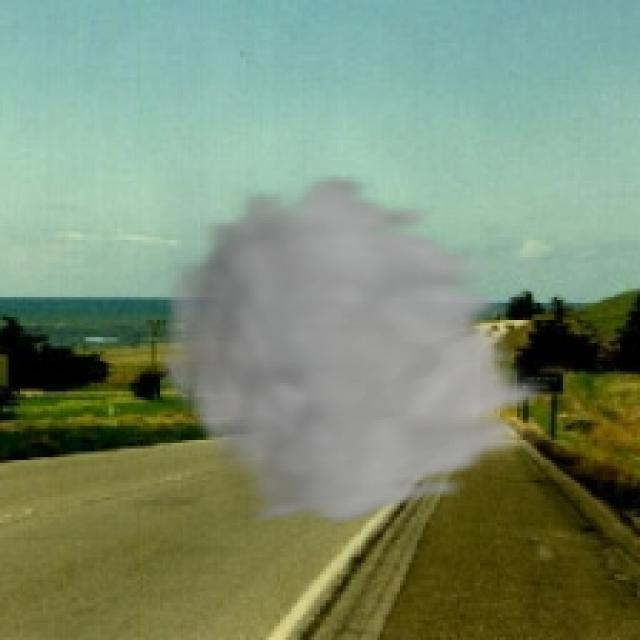Smoke: (151, 168, 560, 528)
